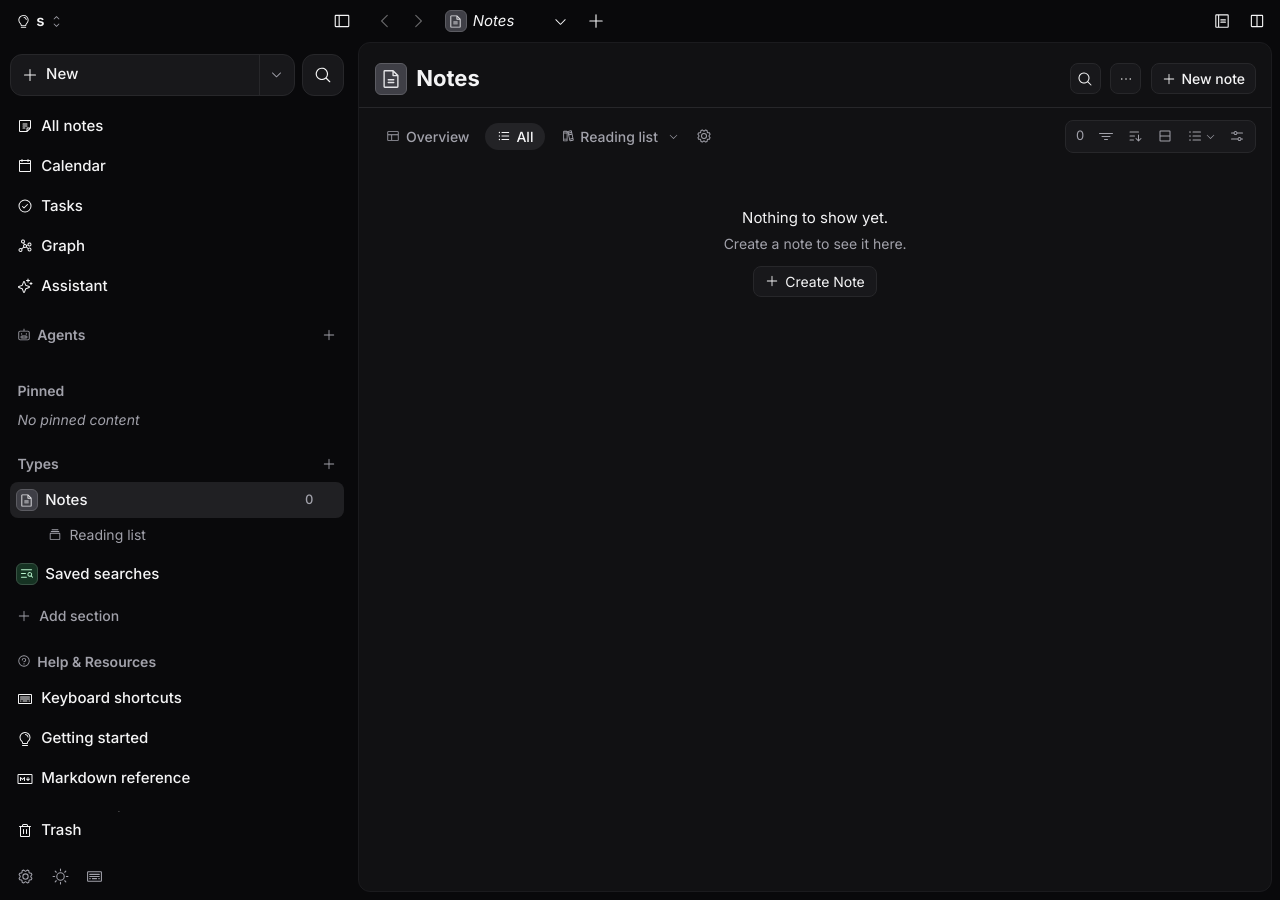
Test: navigation wiring › test pin from TypePage and CollectionPage menus adds a PinRef
Expected: the heading "Notes" is shown, top-left (416, 62), bottom-right (480, 95)
What coordinates should you click on to do the following:
click the button named "More"
I would click on:
 (1126, 79)
Its box is top-left (1110, 63), bottom-right (1141, 94).
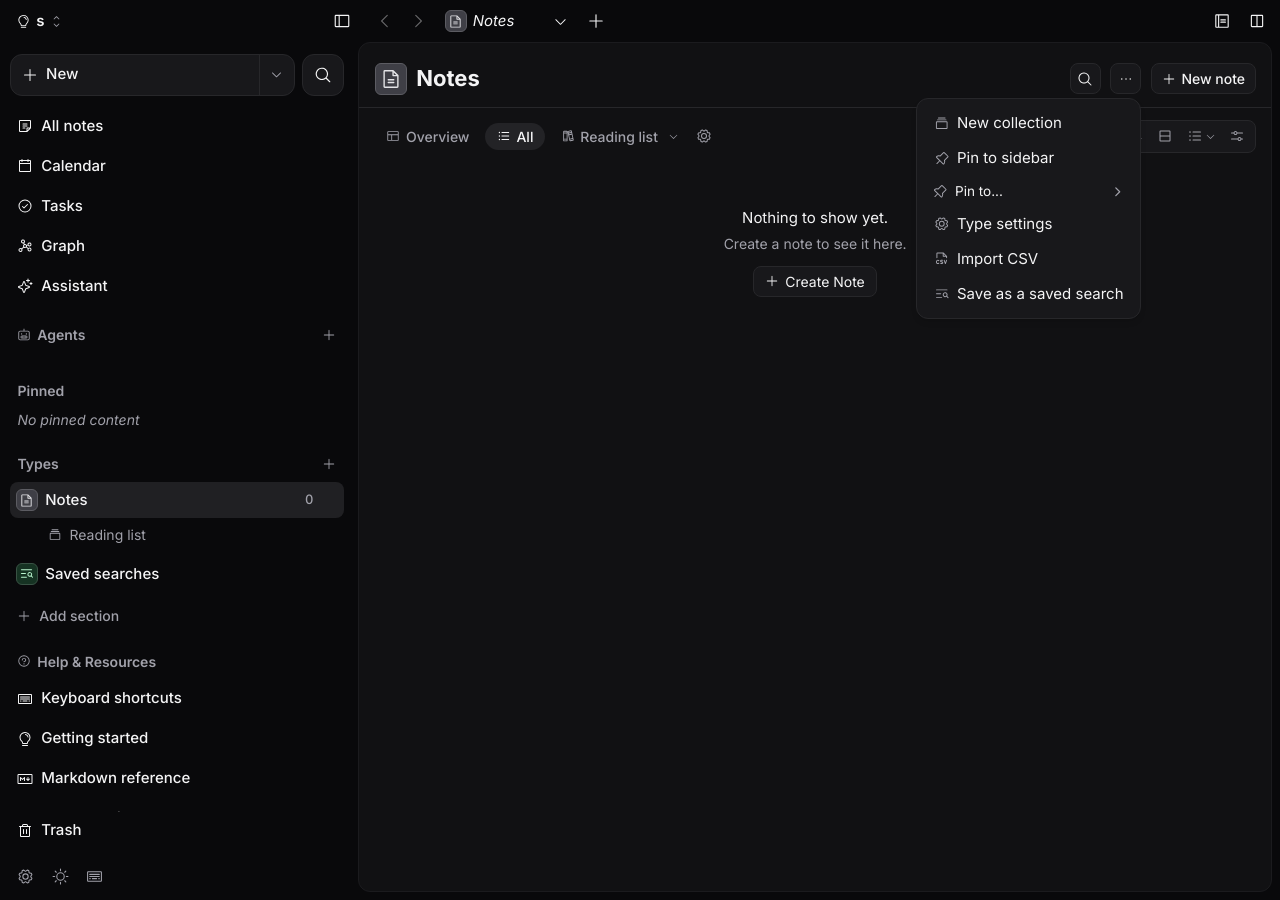
What coordinates should you click on to do the following:
click the menu item "Pin to sidebar"
I would click on:
 (994, 158)
Its box is top-left (934, 148), bottom-right (1054, 167).
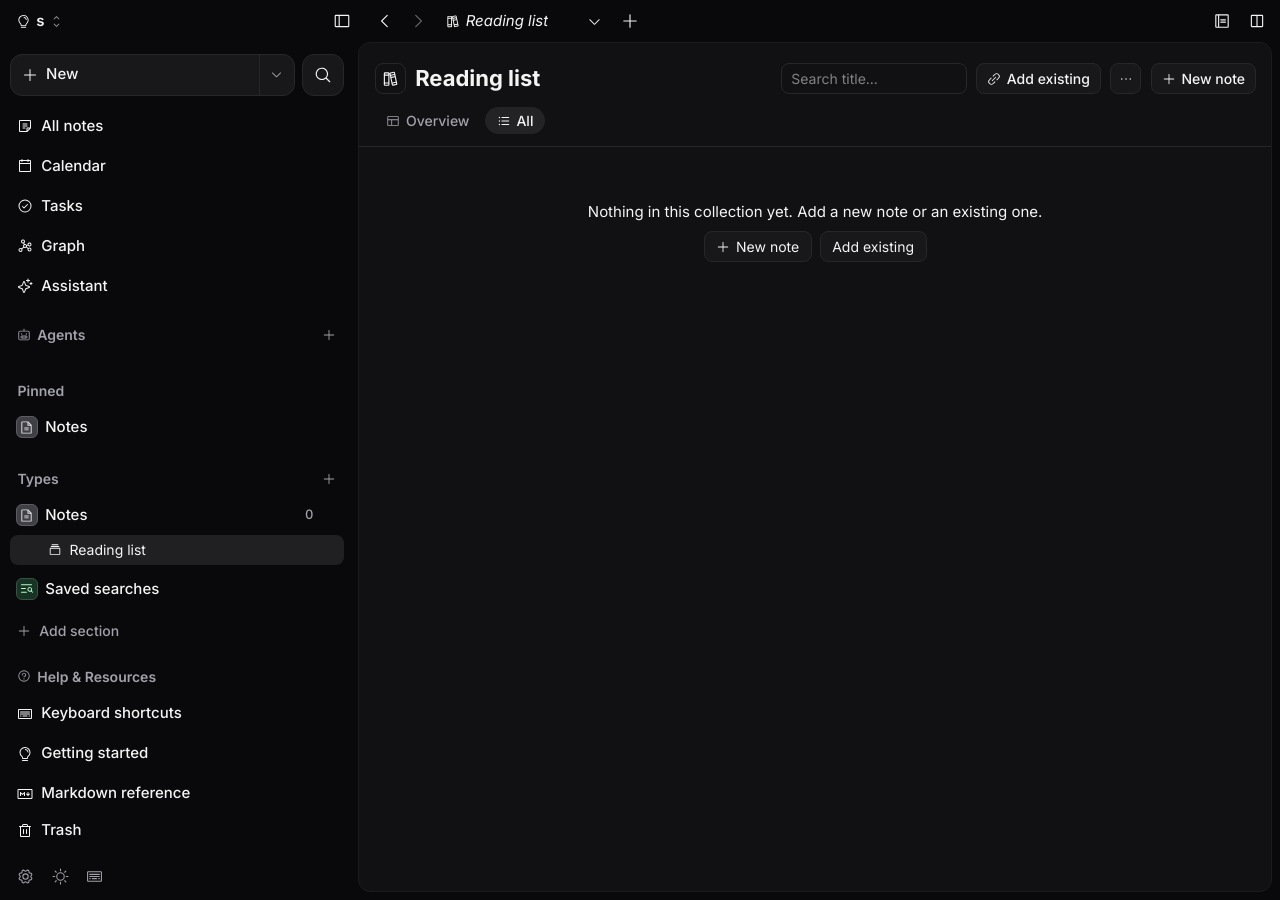
Now the field named "Collection name" is shown, box top-left (415, 62), bottom-right (771, 95)
What coordinates should you click on to do the following:
click the button named "More"
I would click on:
 (1126, 79)
Its box is top-left (1110, 63), bottom-right (1141, 94).
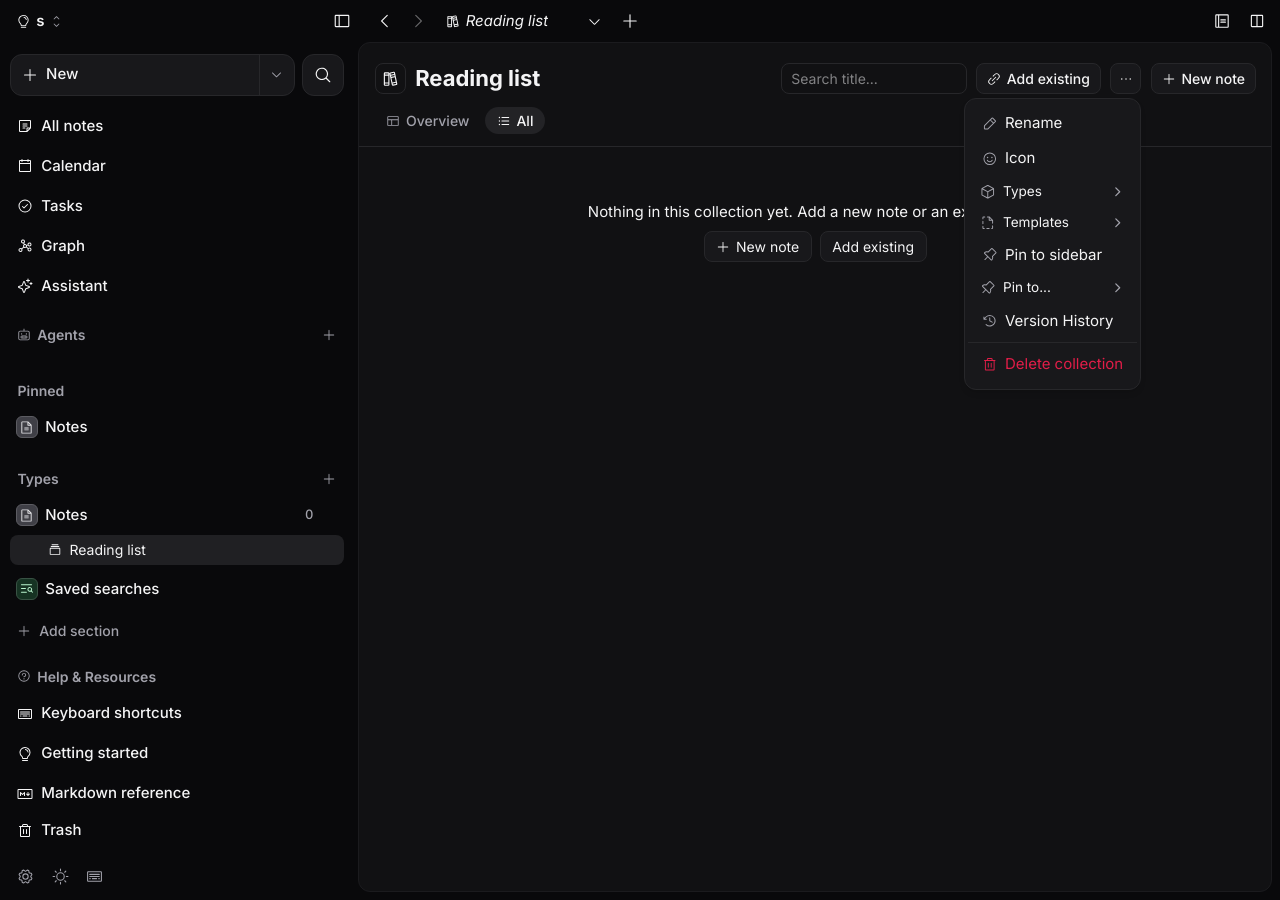
What coordinates should you click on to do the following:
click the menu item "Pin to sidebar"
I would click on:
 (1042, 254)
Its box is top-left (982, 245), bottom-right (1102, 264).
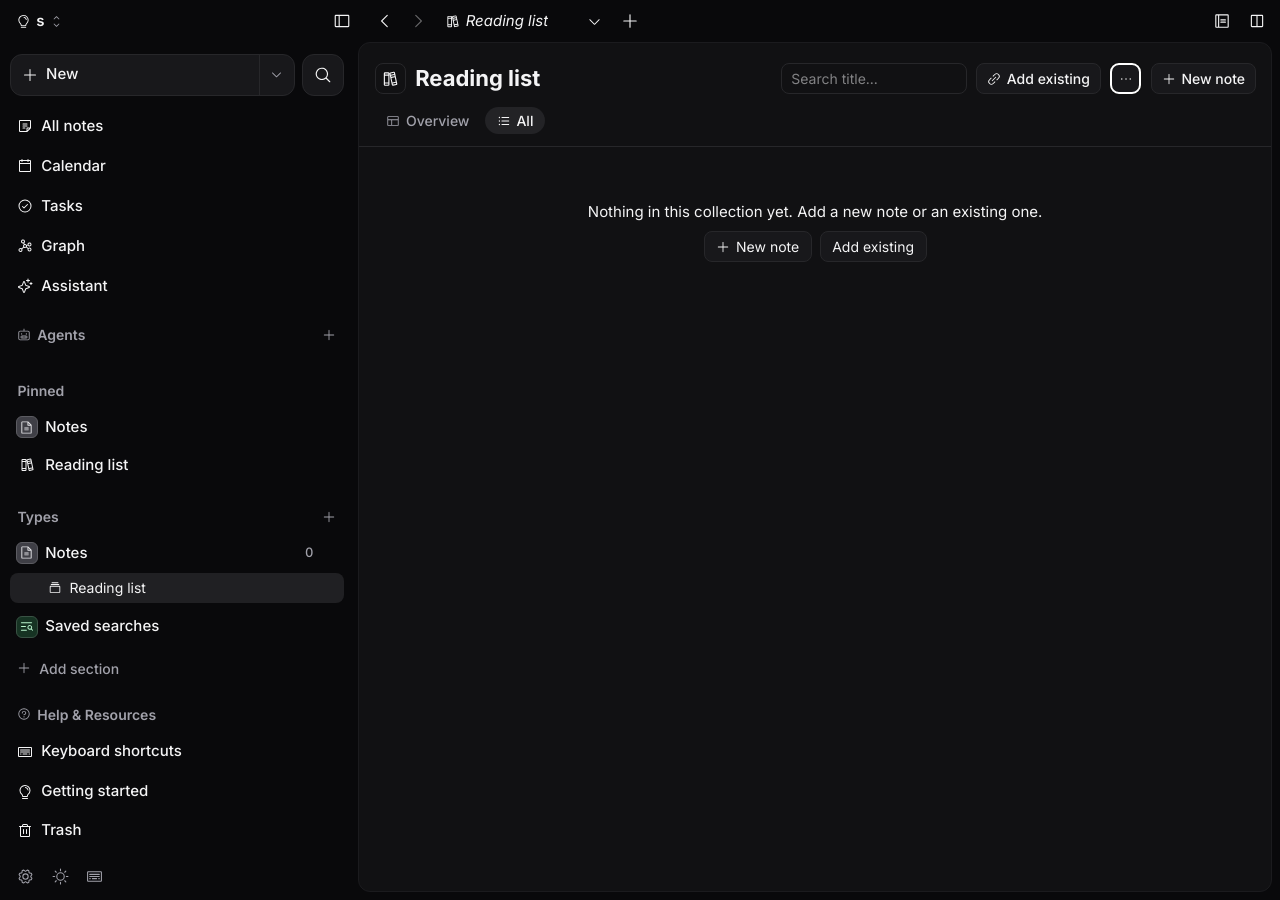
Now the text "Reading list" below "Pinned" is shown, box top-left (45, 455), bottom-right (128, 474)
